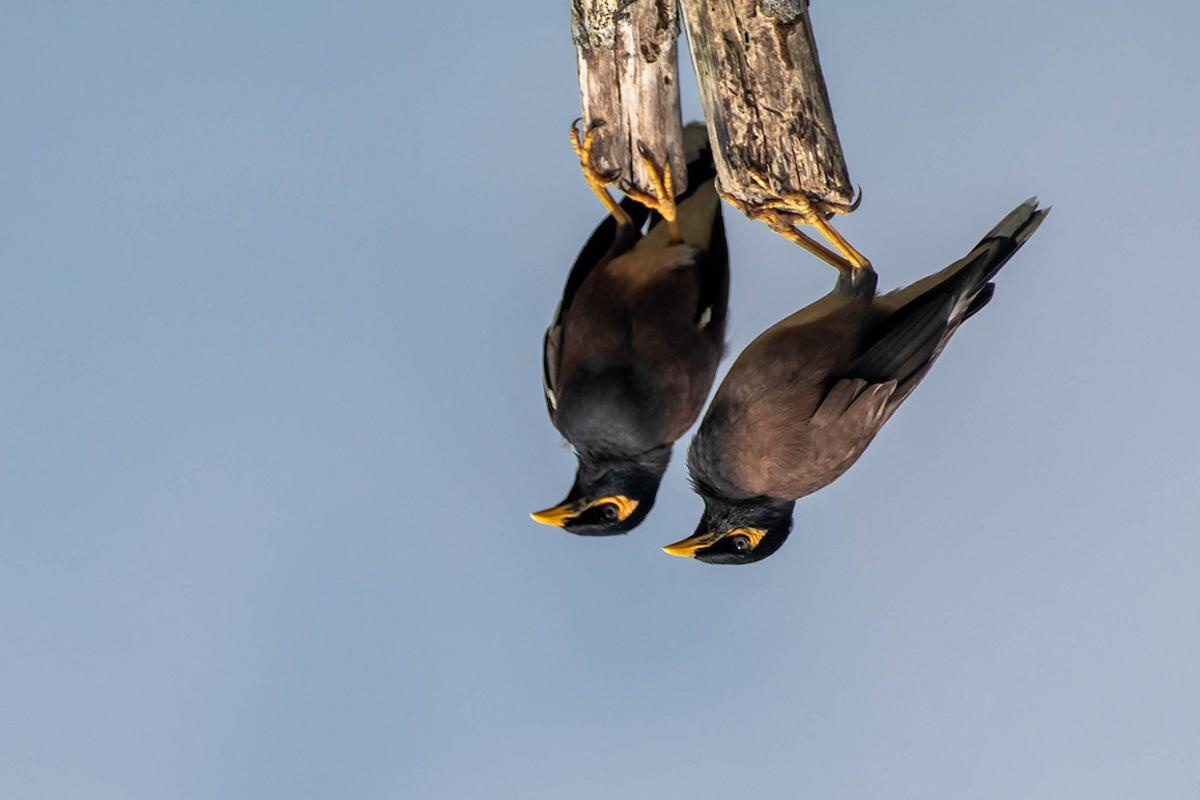myna: (670, 228, 1030, 620), (518, 117, 725, 591)
